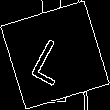L_NE: (30, 25, 80, 85)
